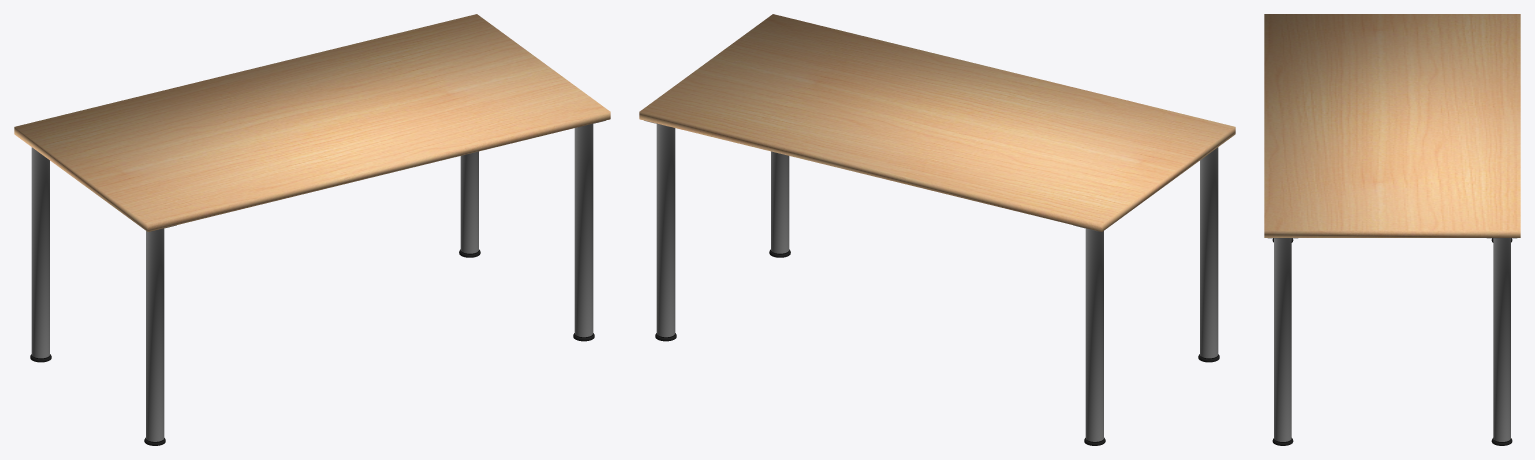
The model's file is wooden_office_pear_table_rect.obj.
The picture shows the model from 3 angles, left to right: view 1: azimuth 30°, elevation 25°; view 2: azimuth 150°, elevation 25°; view 3: azimuth 270°, elevation 25°; orthographic projection. The views are drawn at different scales.
Visible parts, largest first — view 1: pear_table_rectangle_Cube.001, leg_downright3_Cylinder.008, leg_downleft3_Cylinder.011, leg_upleft3_Cylinder.010, leg_upright3_Cylinder.009; view 2: pear_table_rectangle_Cube.001, leg_upright3_Cylinder.009, leg_upleft3_Cylinder.010, leg_downleft3_Cylinder.011, leg_downright3_Cylinder.008; view 3: pear_table_rectangle_Cube.001, leg_upright3_Cylinder.009, leg_downright3_Cylinder.008.
Boxes of the visible parts, x1,y1,x2,y2 form: pear_table_rectangle_Cube.001: (14, 14, 610, 231); leg_downright3_Cylinder.008: (573, 120, 605, 341); leg_downleft3_Cylinder.011: (144, 225, 176, 445); leg_upleft3_Cylinder.010: (30, 147, 51, 362); leg_upright3_Cylinder.009: (459, 151, 480, 257); pear_table_rectangle_Cube.001: (639, 14, 1235, 231); leg_upright3_Cylinder.009: (644, 120, 676, 341); leg_upleft3_Cylinder.010: (1073, 225, 1105, 445); leg_downleft3_Cylinder.011: (1198, 147, 1219, 362); leg_downright3_Cylinder.008: (769, 151, 790, 257); pear_table_rectangle_Cube.001: (1264, 14, 1520, 237); leg_upright3_Cylinder.009: (1487, 238, 1516, 445); leg_downright3_Cylinder.008: (1268, 238, 1297, 445).
Size of the model in its own units: 160 by 75.38 by 80.03.
Materials: 3 (1 with a texture image).
